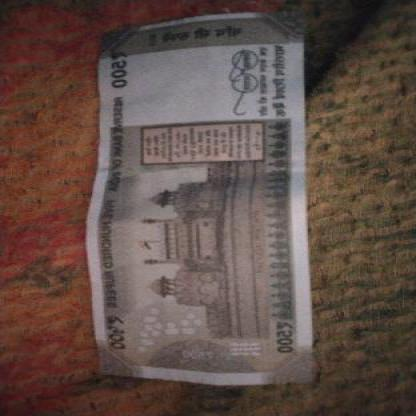New500Back: (100, 13, 308, 377)
